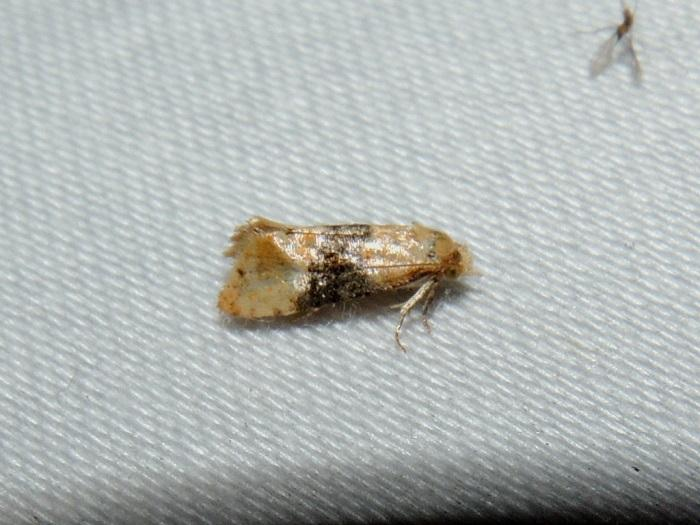Eupoecilia Ambiguella: (215, 213, 477, 354)
